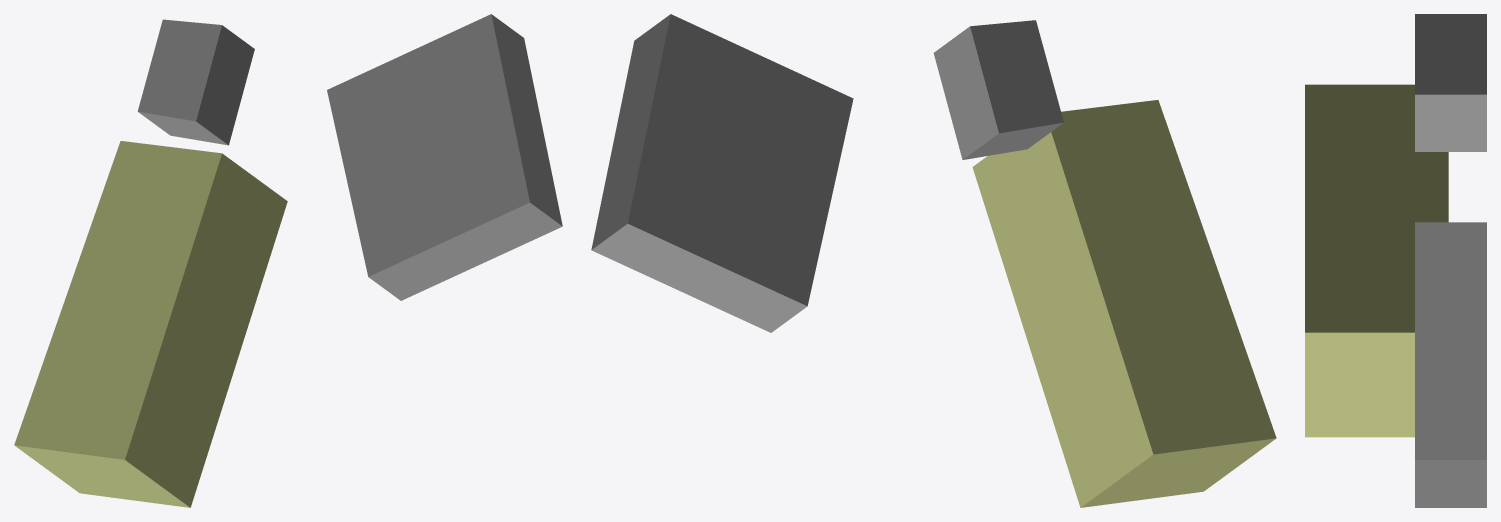
3 renders of one model, left to right at view 1: azimuth 30°, elevation 25°; view 2: azimuth 150°, elevation 25°; view 3: azimuth 270°, elevation 25°, orthographic. The views are drawn at different scales.
Visible parts, largest first — view 1: 0_1_0_1_3_3_3_0_2; view 2: 0_1_0_1_3_3_3_0_2; view 3: 0_1_0_1_3_3_3_0_2.
Boxes of the visible parts, x1,y1,x2,y2 form: 0_1_0_1_3_3_3_0_2: (14, 14, 562, 507); 0_1_0_1_3_3_3_0_2: (591, 14, 1276, 507); 0_1_0_1_3_3_3_0_2: (1305, 14, 1486, 507).
Size of the model in its own units: 28.15 by 20.89 by 7.6.
